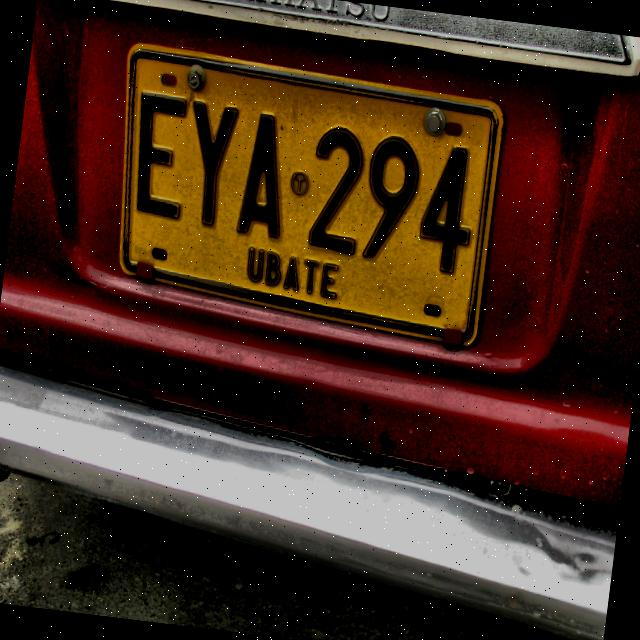plate: (124, 47, 498, 340)
